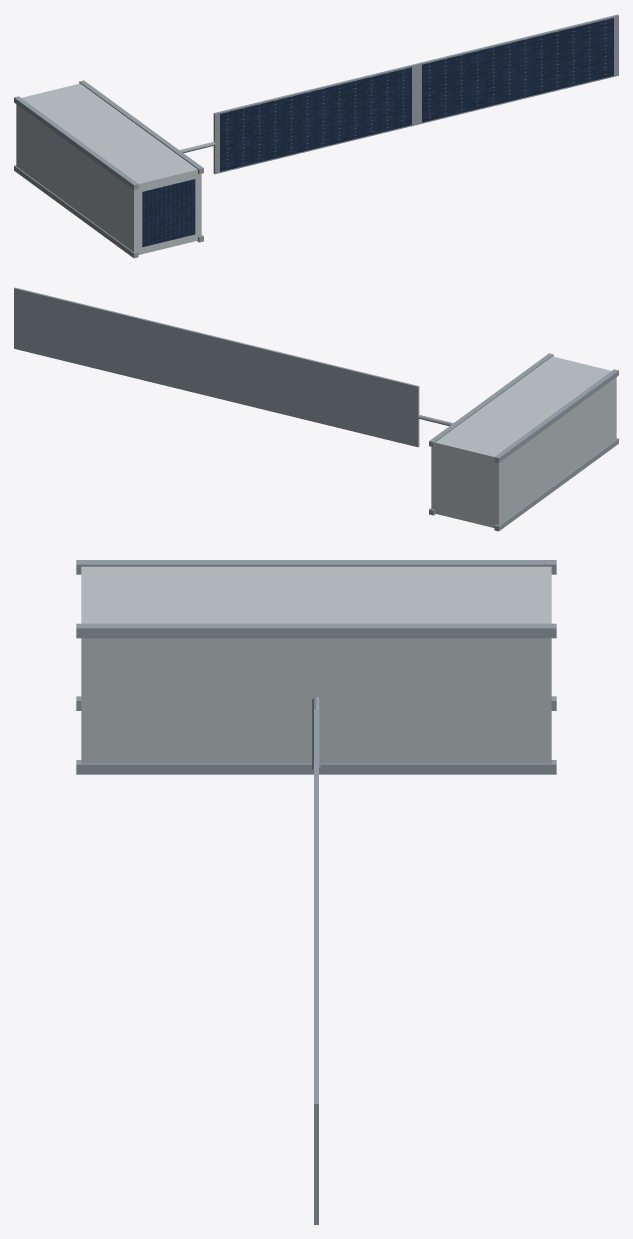
Rendered from ref-cubesat-6u-60246.glb.
3 views of the same model, one above another, from view 1: azimuth 30°, elevation 25°; view 2: azimuth 150°, elevation 25°; view 3: azimuth 270°, elevation 25° (orthographic). The views are drawn at different scales.
Visible parts, largest first — view 1: Photovoltaic laminates (×2), Spacecraft body, Array frame (×2), Body-mounted cells, Dispenser rail (×3); view 2: Array frame (×2), Spacecraft body, Dispenser rail (×3); view 3: Spacecraft body, Dispenser rail (×3), Array frame (×2).
Part boxes in pixels (x1,y1,x2,y2): Photovoltaic laminates (×2): (220,18,613,171); Spacecraft body: (16,83,201,254); Array frame (×2): (213,14,618,174); Body-mounted cells: (142,179,195,247); Dispenser rail (×3): (14,80,203,258); Array frame (×2): (14,287,419,447); Spacecraft body: (431,356,616,527); Dispenser rail (×3): (429,353,618,531); Spacecraft body: (81,566,551,763); Dispenser rail (×3): (76,560,556,774); Array frame (×2): (314,709,318,1224).
Bounding box in the file's own units: 0.8015 × 0.103 × 0.306.
Materials: 3 (1 with a texture image).
